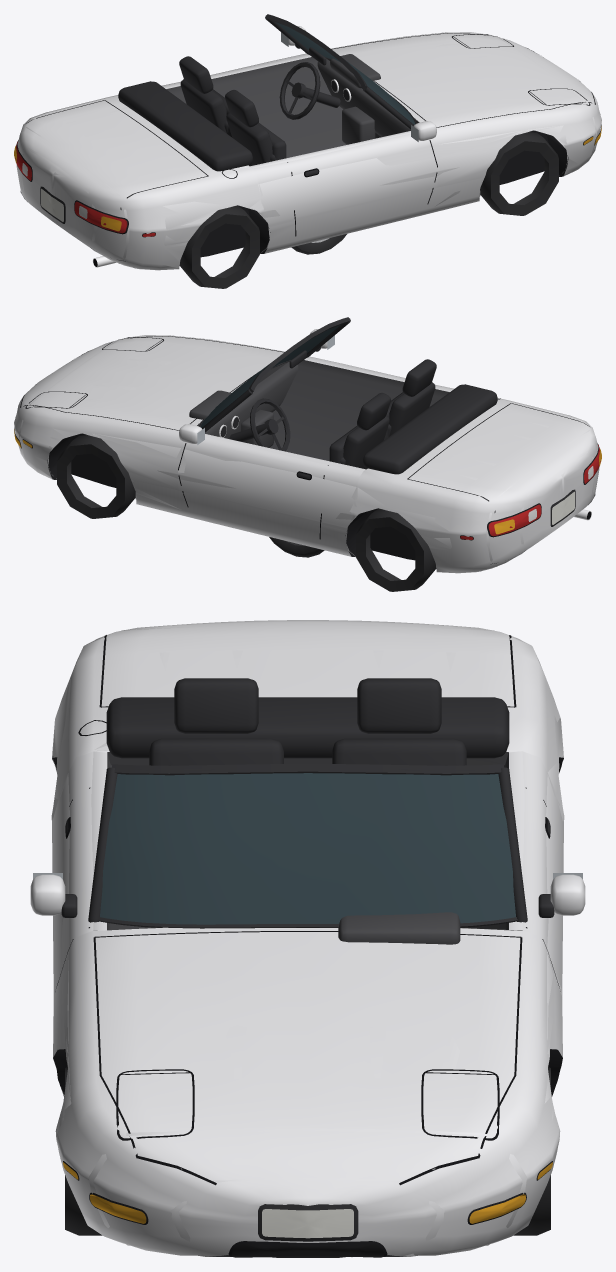
File: miata.glb
3 renders of one model, top to bottom at view 1: azimuth 30°, elevation 25°; view 2: azimuth 150°, elevation 25°; view 3: azimuth 270°, elevation 25°, orthographic. The views are drawn at different scales.
Parts seen in each view (by area): view 1: miata, miata_lo, miata_wf; view 2: miata, miata_lo, miata_wf; view 3: miata, miata_lo.
Part boxes in pixels (x1=…): miata: x1=14, y1=15, x2=601, y2=270; miata_lo: x1=17, y1=14, x2=600, y2=288; miata_wf: x1=291, y1=234, x2=346, y2=254; miata: x1=14, y1=318, x2=601, y2=573; miata_lo: x1=15, y1=317, x2=598, y2=591; miata_wf: x1=269, y1=537, x2=324, y2=557; miata: x1=30, y1=620, x2=585, y2=1257; miata_lo: x1=42, y1=624, x2=573, y2=1257.
Bounding box in the file's own units: 3.99 × 1.48 × 1.82.
